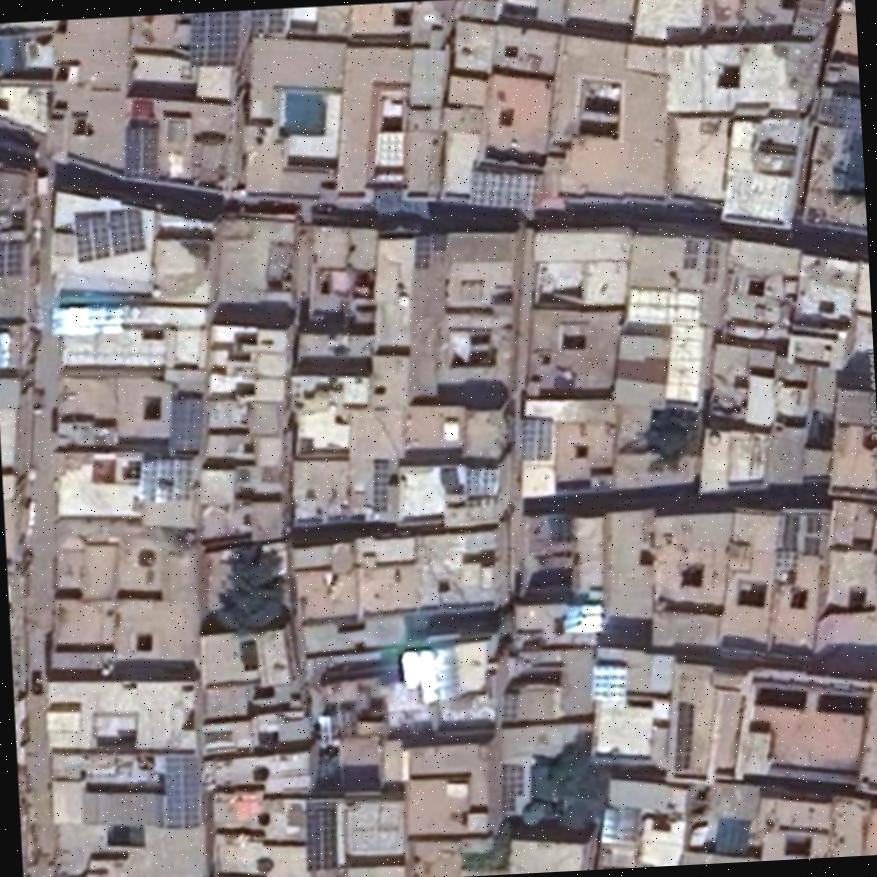Solarpanel: (74, 210, 144, 260), (189, 10, 241, 64), (467, 170, 540, 206), (166, 753, 200, 827), (140, 454, 189, 501), (49, 305, 123, 336), (304, 803, 335, 871), (123, 124, 158, 180), (169, 400, 201, 452), (515, 418, 550, 459), (589, 665, 625, 701), (675, 701, 692, 769), (464, 466, 499, 496), (802, 513, 823, 558), (502, 764, 521, 812), (836, 95, 860, 131), (374, 461, 388, 513), (252, 8, 281, 33), (0, 240, 20, 276), (780, 513, 798, 550)
